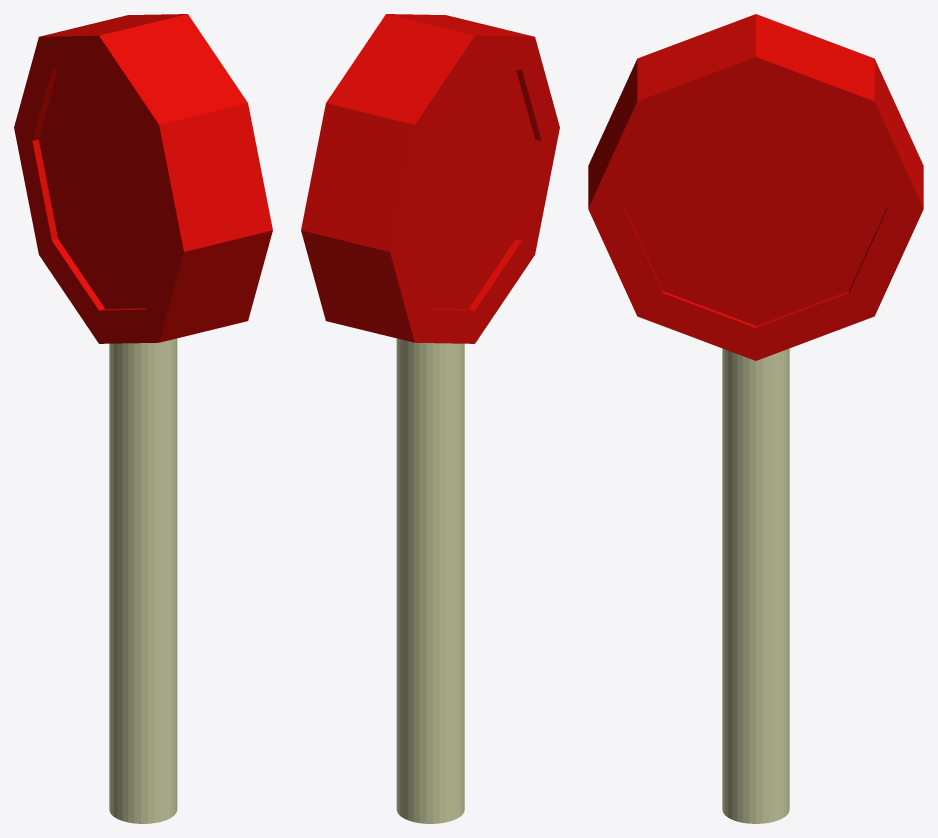
File: StopSign.fbx
The picture shows the model from 3 angles, left to right: view 1: azimuth 30°, elevation 25°; view 2: azimuth 150°, elevation 25°; view 3: azimuth 270°, elevation 25°; orthographic projection.
Parts seen in each view (by area): view 1: Cylinder.001, Cylinder; view 2: Cylinder.001, Cylinder; view 3: Cylinder.001, Cylinder.
Boxes of the visible parts, x1,y1,x2,y2 form: Cylinder.001: [14, 14, 272, 343]; Cylinder: [109, 338, 177, 823]; Cylinder.001: [301, 14, 559, 343]; Cylinder: [396, 338, 464, 823]; Cylinder.001: [588, 14, 923, 360]; Cylinder: [722, 348, 789, 823].
Bounding box in the file's own units: 15.1 × 127 × 50.
